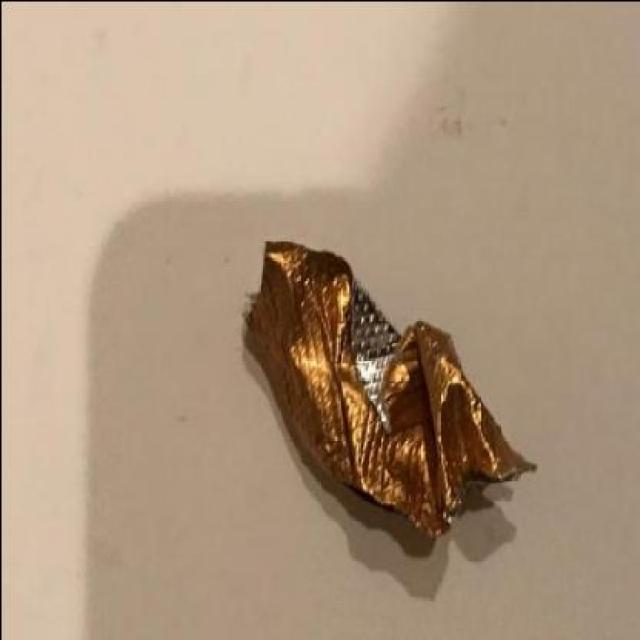METAL: (241, 234, 536, 538)
